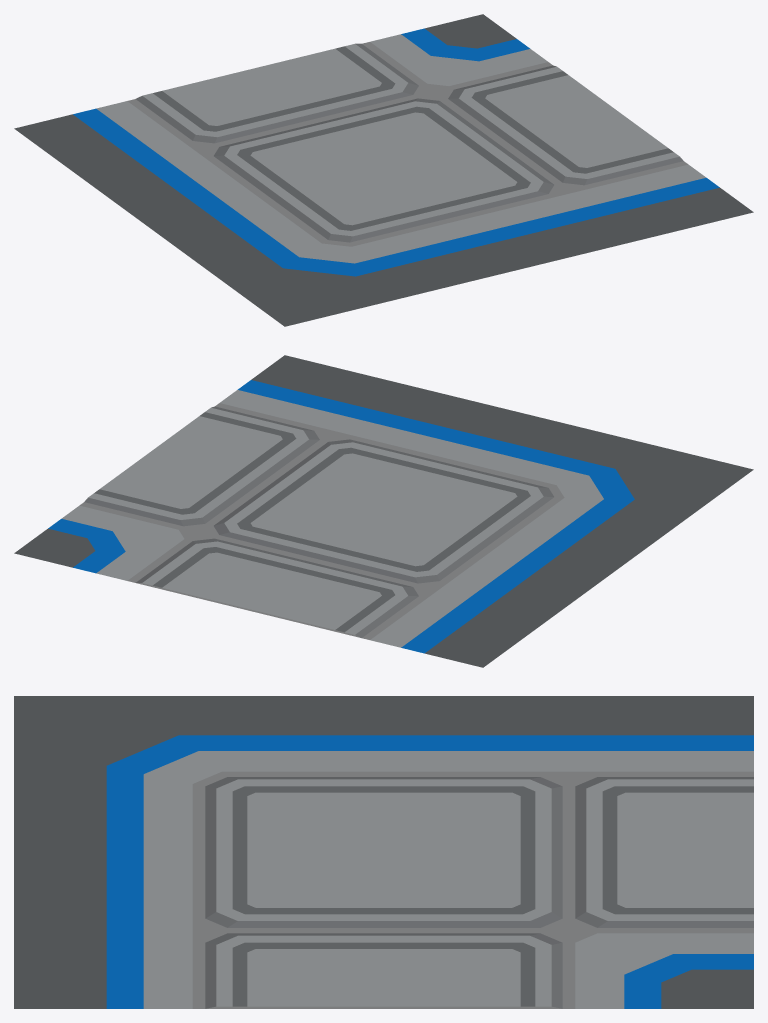
The model's file is Floor_type_B_030.fbx.
The picture shows the model from 3 angles, top to bottom: view 1: azimuth 30°, elevation 25°; view 2: azimuth 150°, elevation 25°; view 3: azimuth 270°, elevation 25°; orthographic projection. The views are drawn at different scales.
Parts seen in each view (by area): view 1: Floor_type_B_030; view 2: Floor_type_B_030; view 3: Floor_type_B_030.
Boxes of the visible parts, left/top/right/bottom form: Floor_type_B_030: left=14, top=14, right=753, bottom=326; Floor_type_B_030: left=14, top=355, right=753, bottom=667; Floor_type_B_030: left=14, top=696, right=753, bottom=1008.
Size of the model in its own units: 400 by 400 by 1.34.
